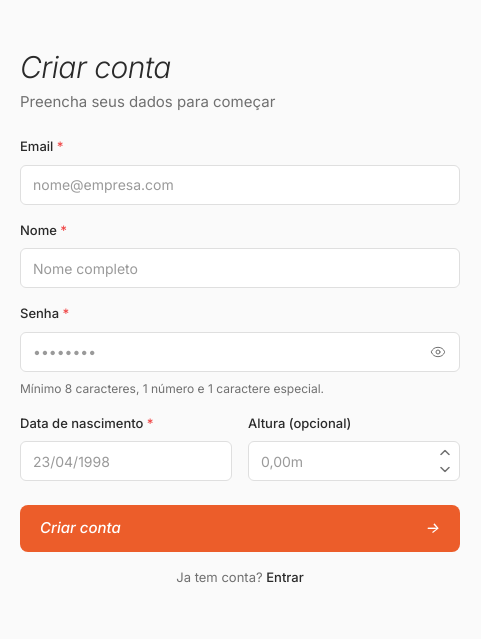
Scenario: RegisterPage › requires email, name, password, and birth date
Click the button "Criar conta →".
click(80, 528)  # box x1=20 y1=505 x2=460 y2=552
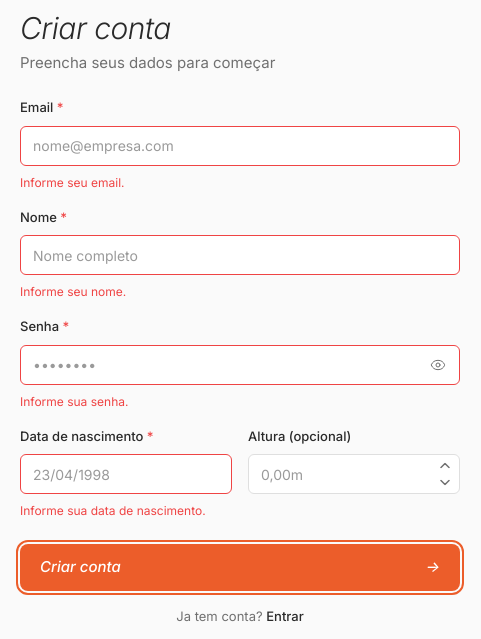
Expected: the text "Informe seu email." is shown, x1=20 y1=175 x2=124 y2=190
Expected: the text "Informe seu nome." is shown, x1=20 y1=284 x2=126 y2=299
Expected: the text "Informe sua senha." is shown, x1=20 y1=394 x2=128 y2=409
